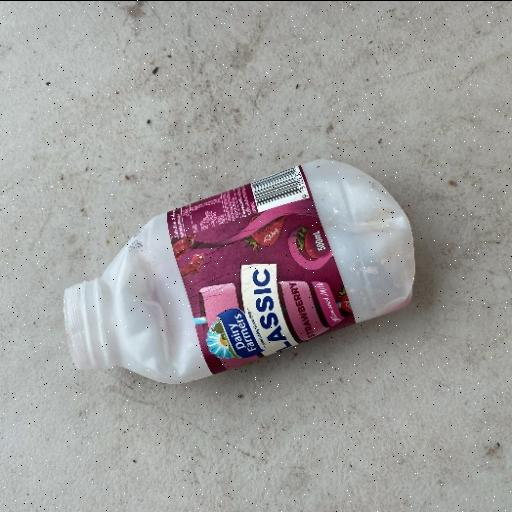Plastic: (61, 156, 417, 388)
